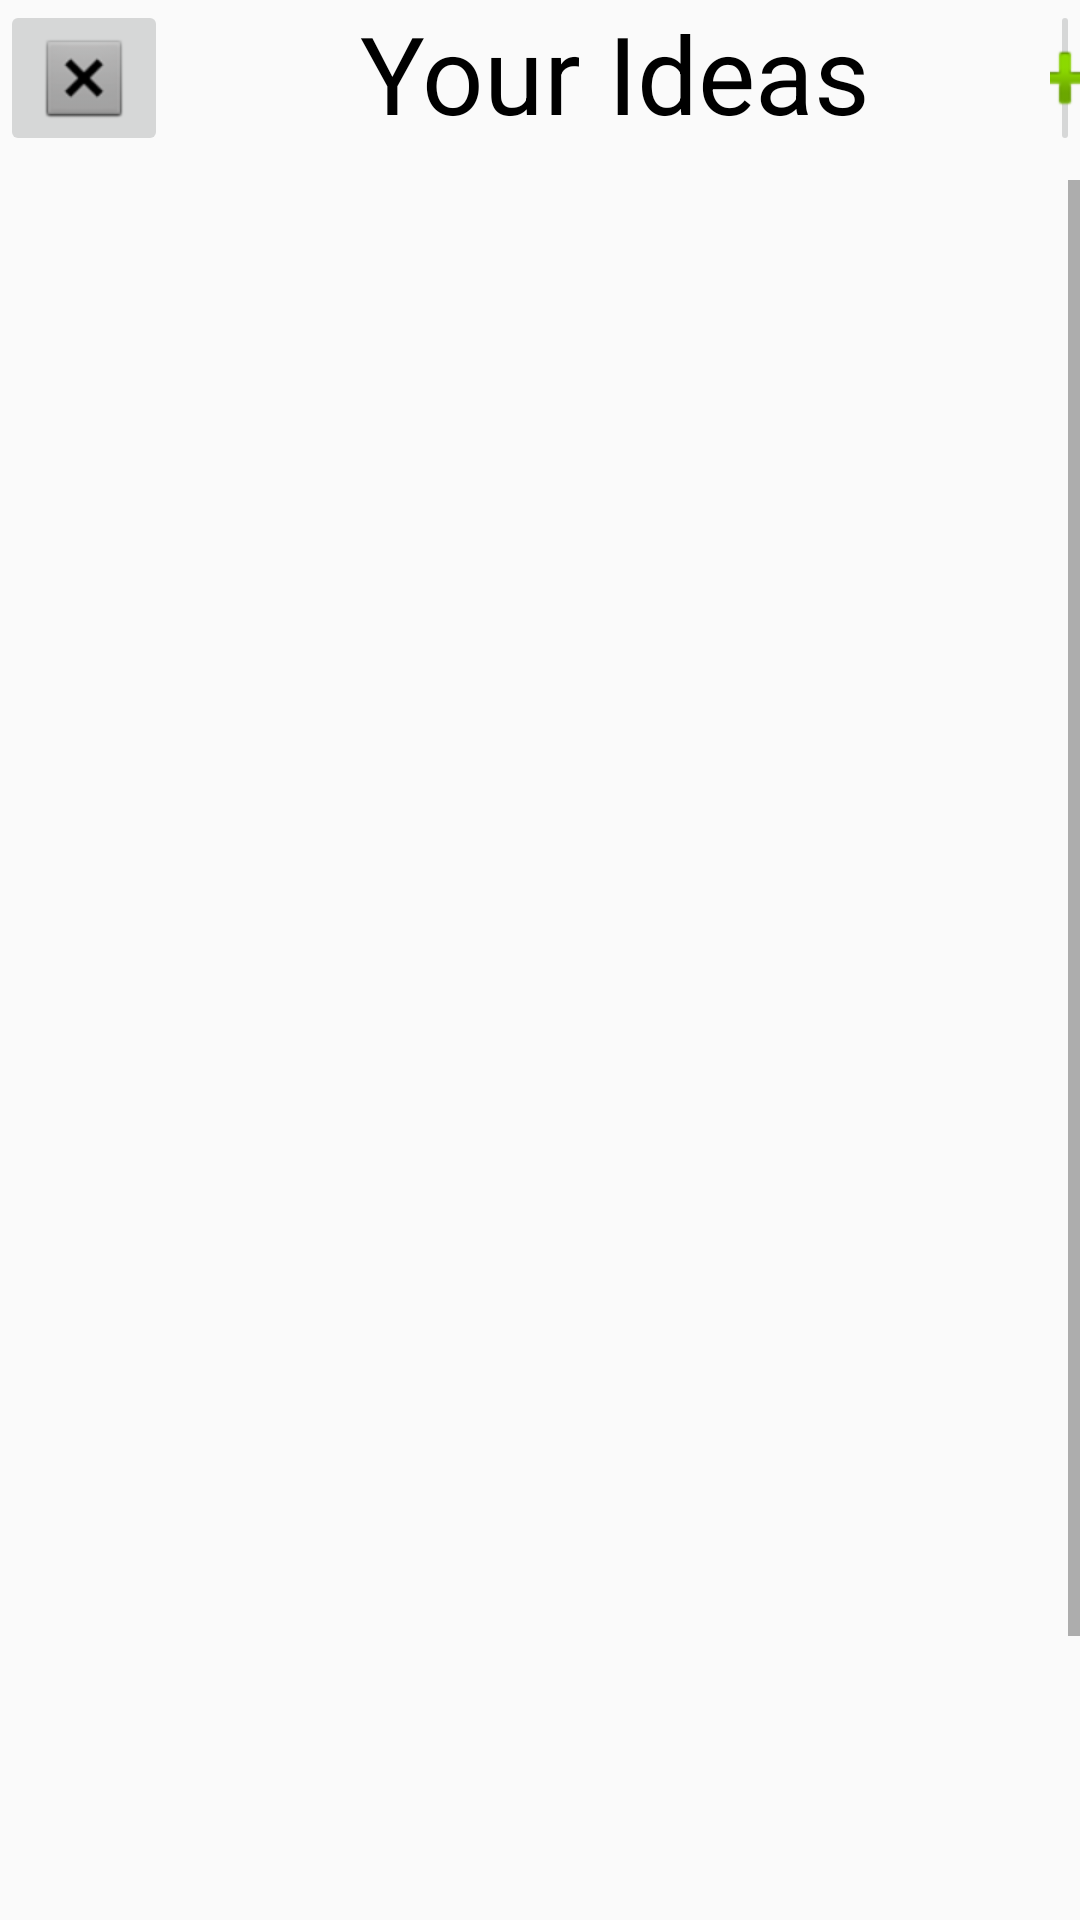

Point at icon controls on the screen. Image size 1080×1920, points as point (x, y).
add: point (1065, 78)
